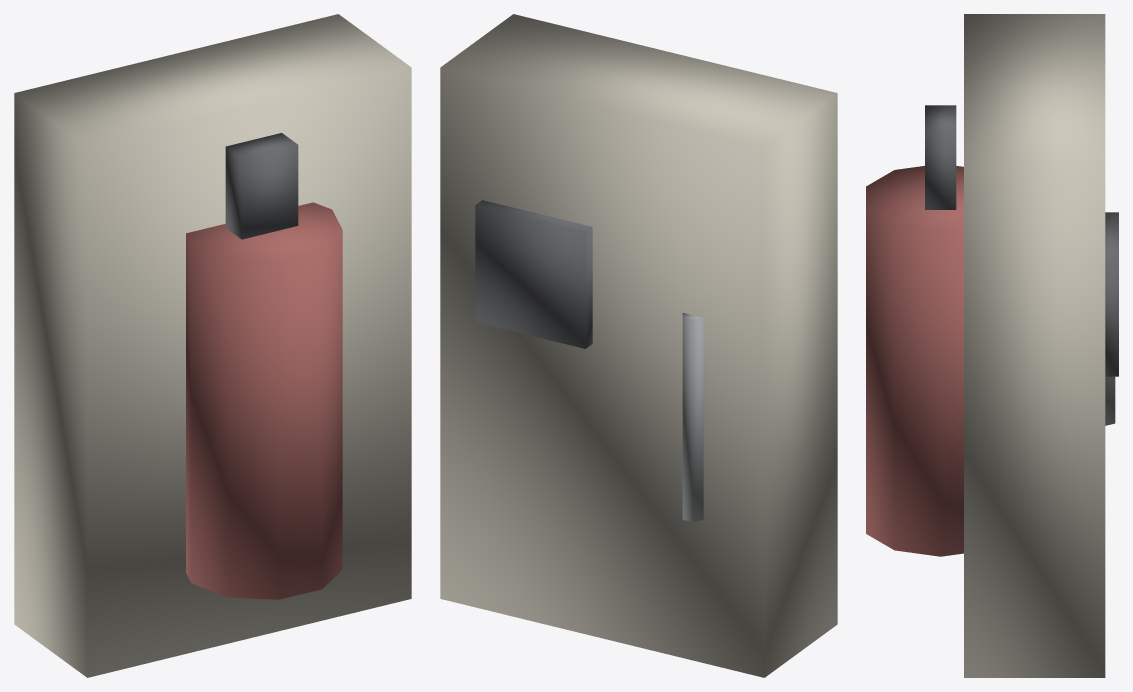
File: extinguisher_cabinet__service.glb
3 renders of one model, left to right at view 1: azimuth 30°, elevation 25°; view 2: azimuth 150°, elevation 25°; view 3: azimuth 270°, elevation 25°, orthographic. The views are drawn at different scales.
Parts seen in each view (by area): view 1: world; view 2: world; view 3: world.
Part boxes in pixels (<box>): world: <box>14,14,411,677</box>; world: <box>440,14,837,677</box>; world: <box>866,14,1118,677</box>.
Bounding box in the file's own units: 0.46 × 0.72 × 0.3226.
